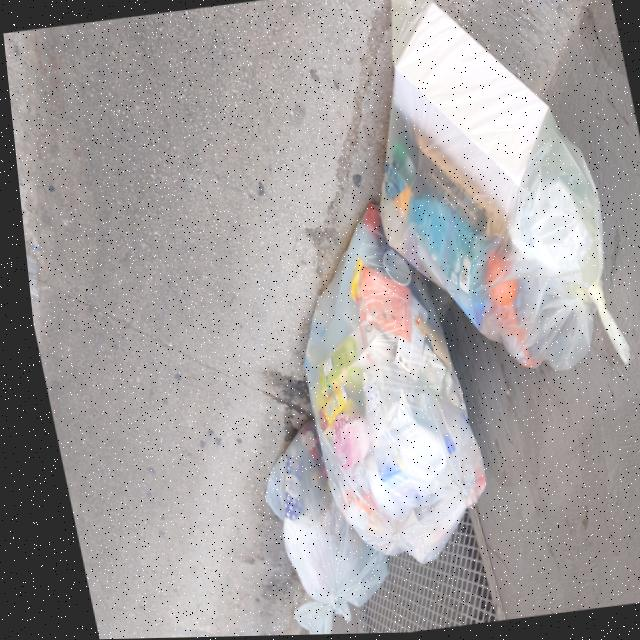Recycled Waste -Grey or Green Bag-: (332, 1, 640, 407), (260, 193, 496, 579), (235, 412, 390, 638)
